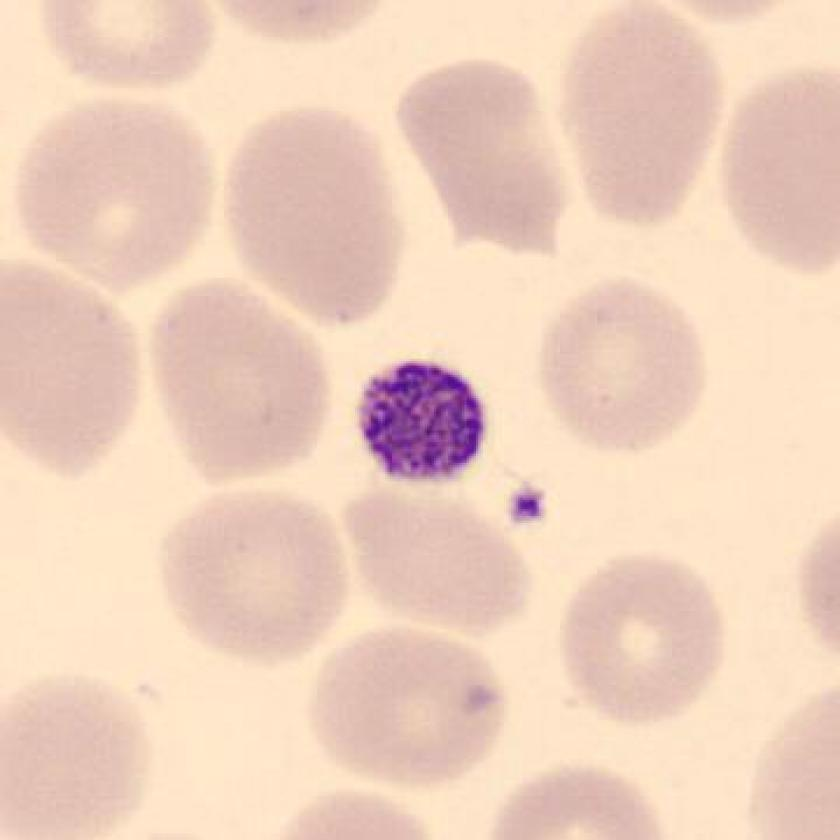platelets: (349, 351, 491, 497)
